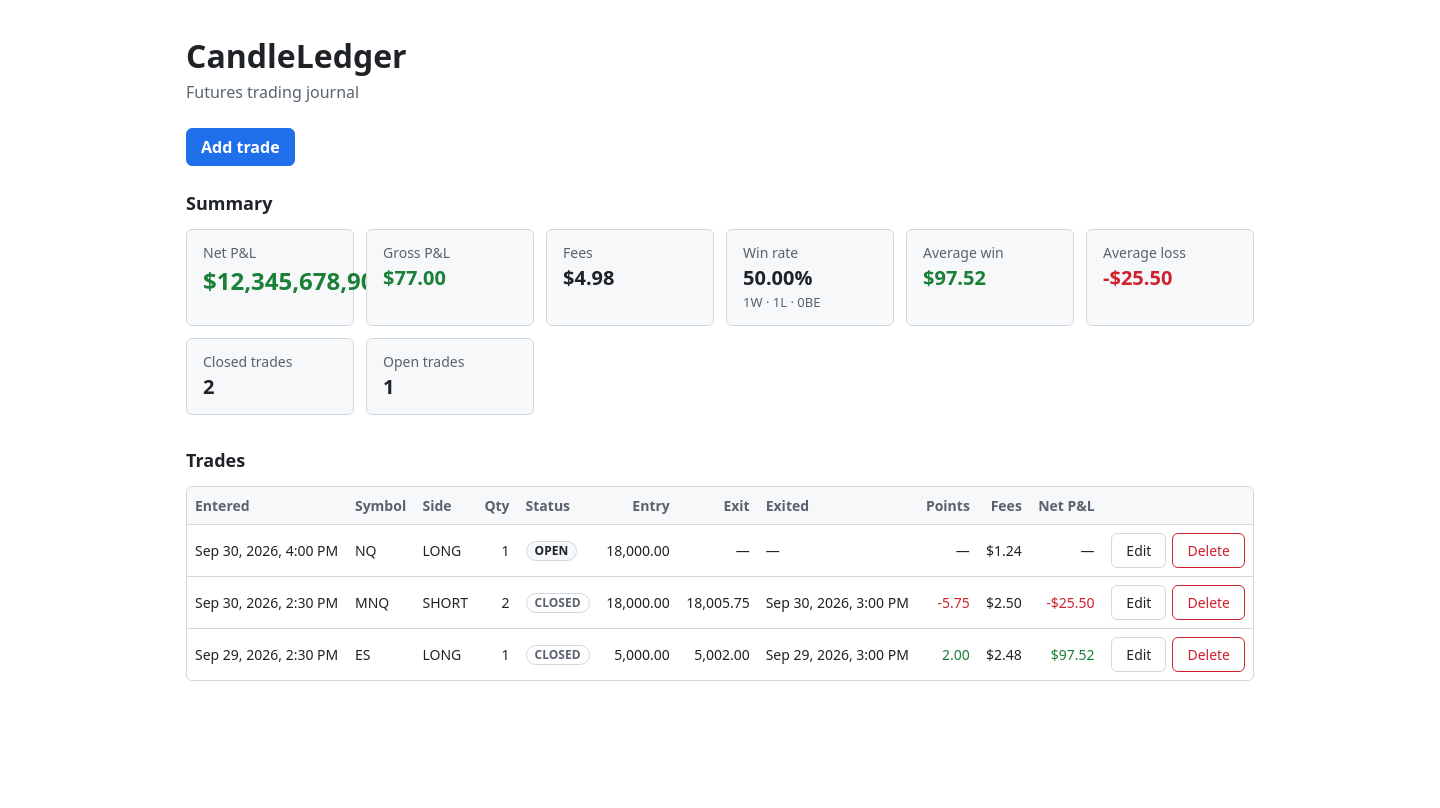
Test: Edit trade › disables every Edit and Delete button and hides Add trade while a form is open
The width and height of the screenshot is (1440, 808).
expect the table is shown: met, box 187,486 -> 1253,680
Click the button with aria-label "Edit MNQ SHORT": (1139, 602) 1111,584 -> 1166,620
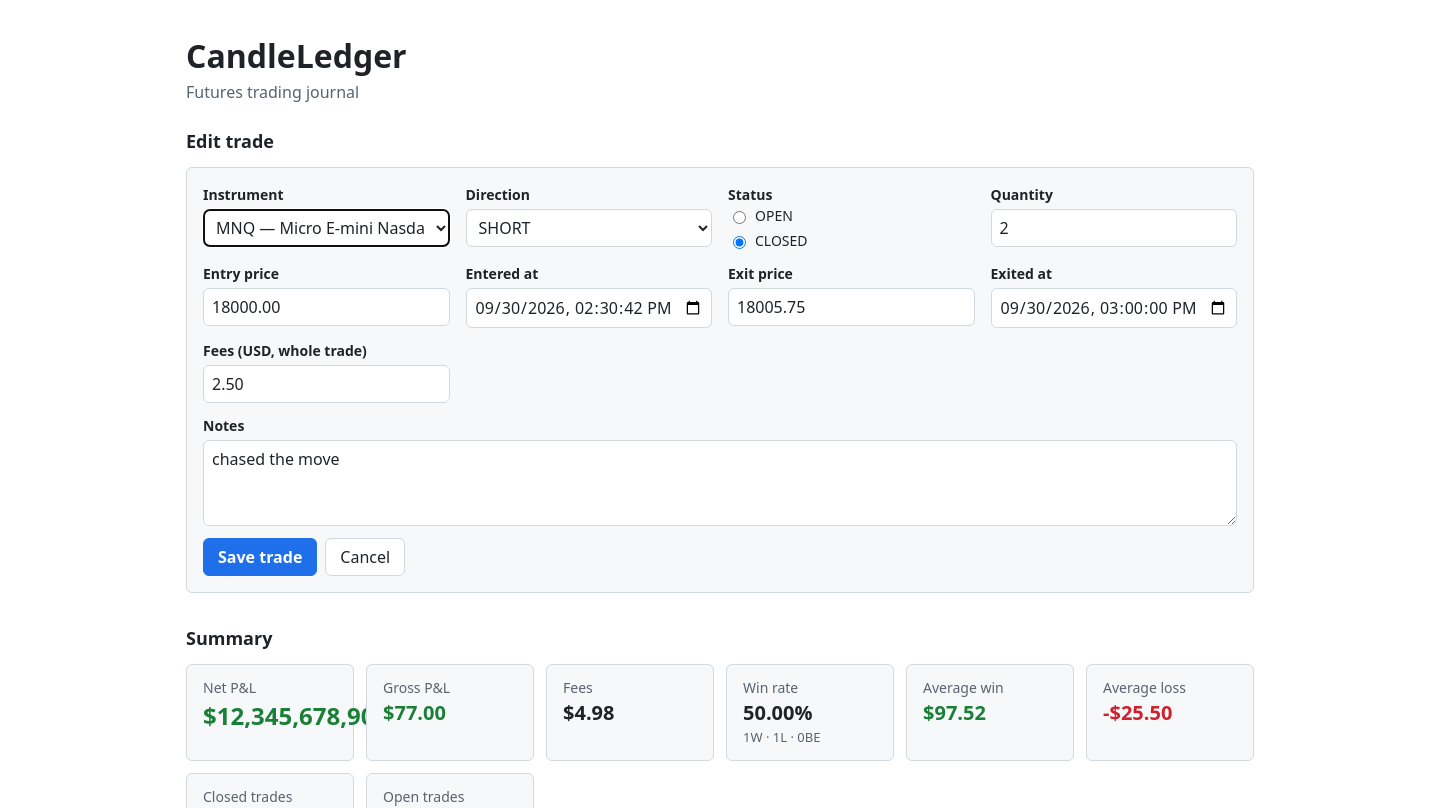
expect the button "Add trade" is gone: met
Click the button "Cancel": (365, 557) 325,538 -> 405,576
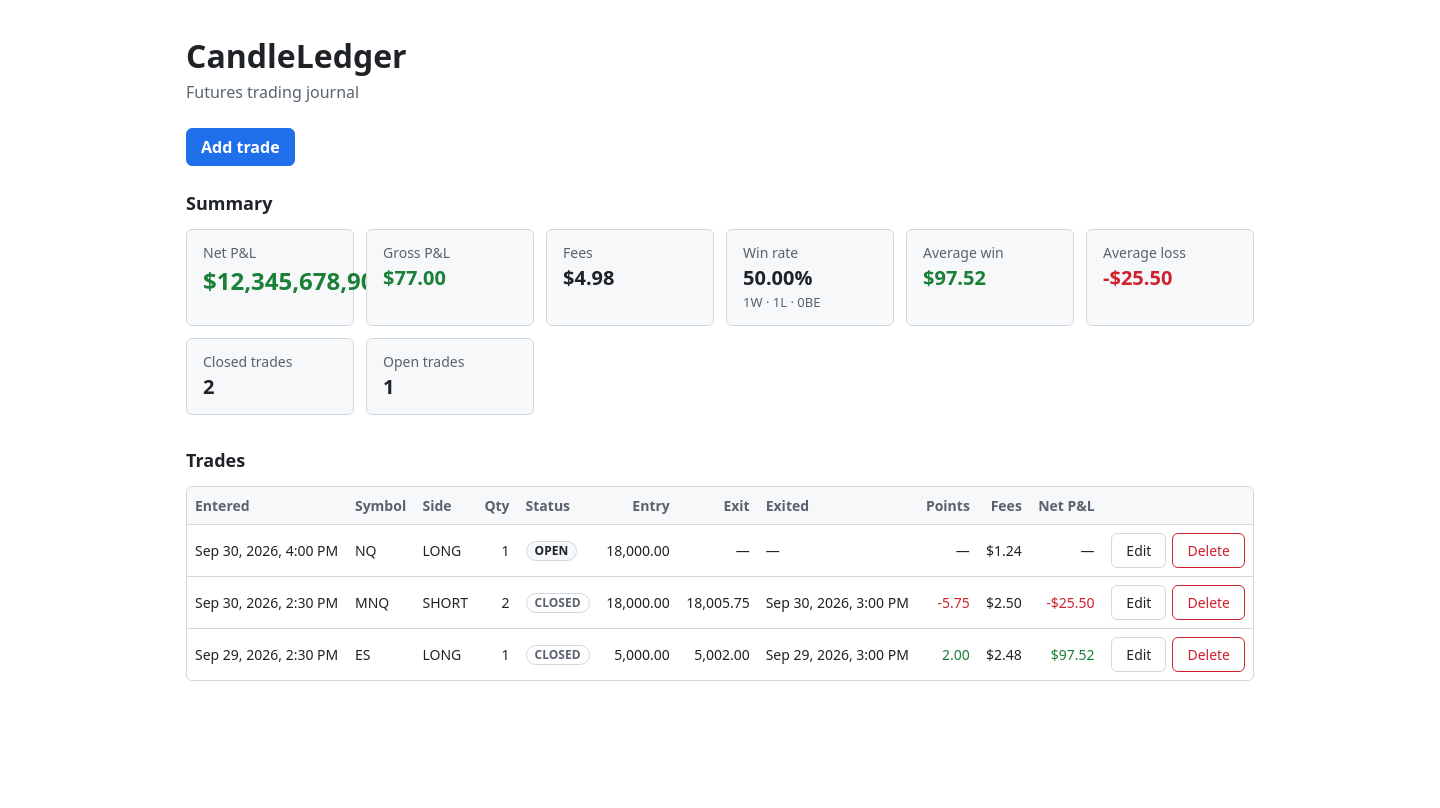
expect the heading "Edit trade" is gone: met
